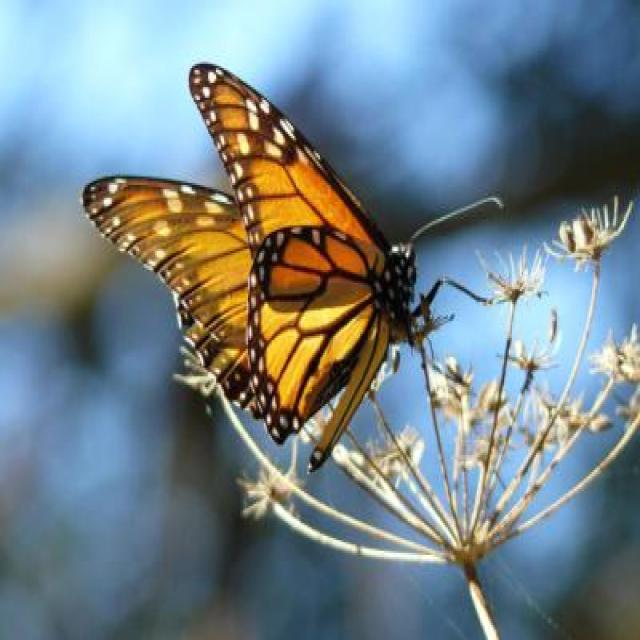antennae: (406, 193, 506, 268)
body: (302, 240, 418, 470)
insect: (84, 58, 508, 477)
legs: (413, 272, 498, 352)
wings: (88, 62, 386, 442)
